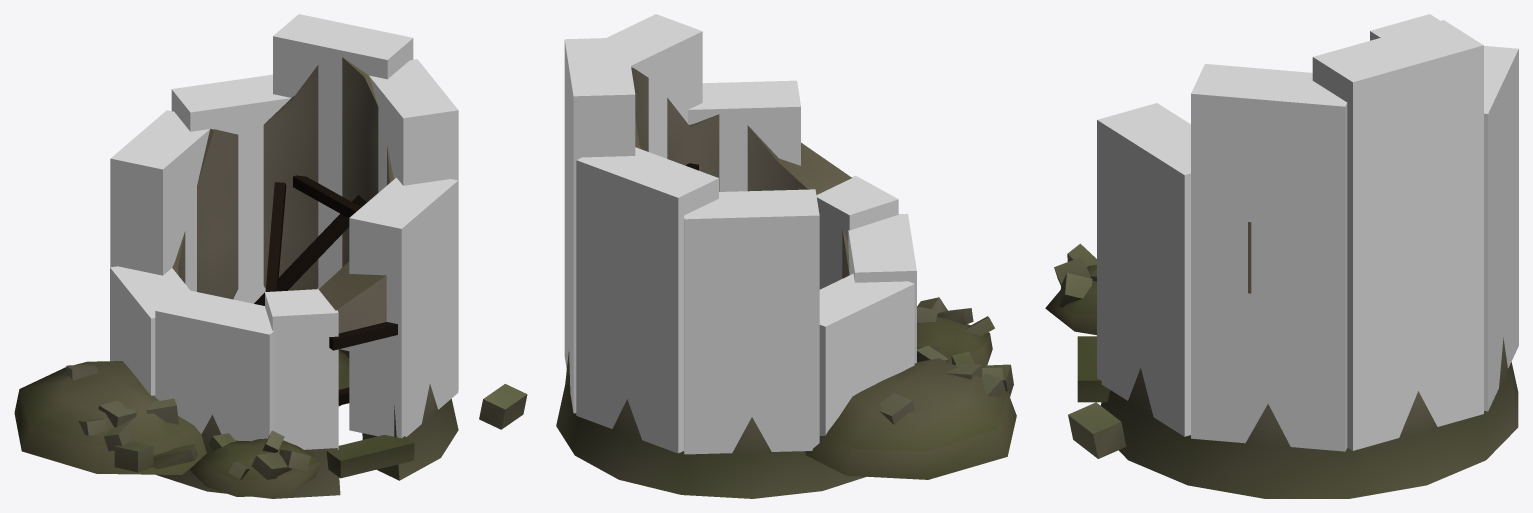
The model's file is ruin_tower.glb.
3 renders of one model, left to right at view 1: azimuth 30°, elevation 25°; view 2: azimuth 150°, elevation 25°; view 3: azimuth 270°, elevation 25°, orthographic. The views are drawn at different scales.
Visible parts, largest first — view 1: ruin_tower, COL_wall_7, COL_wall_5, COL_wall_3, COL_wall_1, COL_wall_6, COL_wall_2, COL_wall_8, COL_wall_4; view 2: ruin_tower, COL_wall_3, COL_wall_2, COL_wall_1, COL_wall_4, COL_wall_7, COL_wall_8, COL_wall_6, COL_wall_5; view 3: COL_wall_8, COL_wall_1, ruin_tower, COL_wall_7, COL_wall_2, COL_wall_3.
Boxes of the visible parts, left/top/right/bottom form: ruin_tower: left=14, top=57, right=527, bottom=498; COL_wall_7: left=349, top=177, right=458, bottom=438; COL_wall_5: left=155, top=288, right=273, bottom=441; COL_wall_3: left=110, top=110, right=209, bottom=291; COL_wall_1: left=273, top=14, right=413, bottom=351; COL_wall_6: left=265, top=289, right=338, bottom=449; COL_wall_2: left=171, top=74, right=291, bottom=303; COL_wall_8: left=369, top=59, right=458, bottom=389; COL_wall_4: left=110, top=266, right=189, bottom=395; ruin_tower: left=556, top=67, right=1016, bottom=498; COL_wall_3: left=684, top=189, right=819, bottom=454; COL_wall_2: left=576, top=147, right=718, bottom=453; COL_wall_1: left=564, top=37, right=635, bottom=413; COL_wall_4: left=819, top=273, right=914, bottom=435; COL_wall_7: left=688, top=80, right=800, bottom=191; COL_wall_8: left=607, top=14, right=702, bottom=158; COL_wall_6: left=816, top=175, right=898, bottom=289; COL_wall_5: left=848, top=213, right=916, bottom=363; COL_wall_8: left=1191, top=64, right=1347, bottom=451; COL_wall_1: left=1312, top=20, right=1483, bottom=450; ruin_tower: left=1045, top=222, right=1518, bottom=498; COL_wall_7: left=1097, top=103, right=1190, bottom=436; COL_wall_2: left=1484, top=46, right=1518, bottom=411; COL_wall_3: left=1370, top=14, right=1440, bottom=40.
Bounding box in the file's own units: 8.97 × 7 × 7.22.
